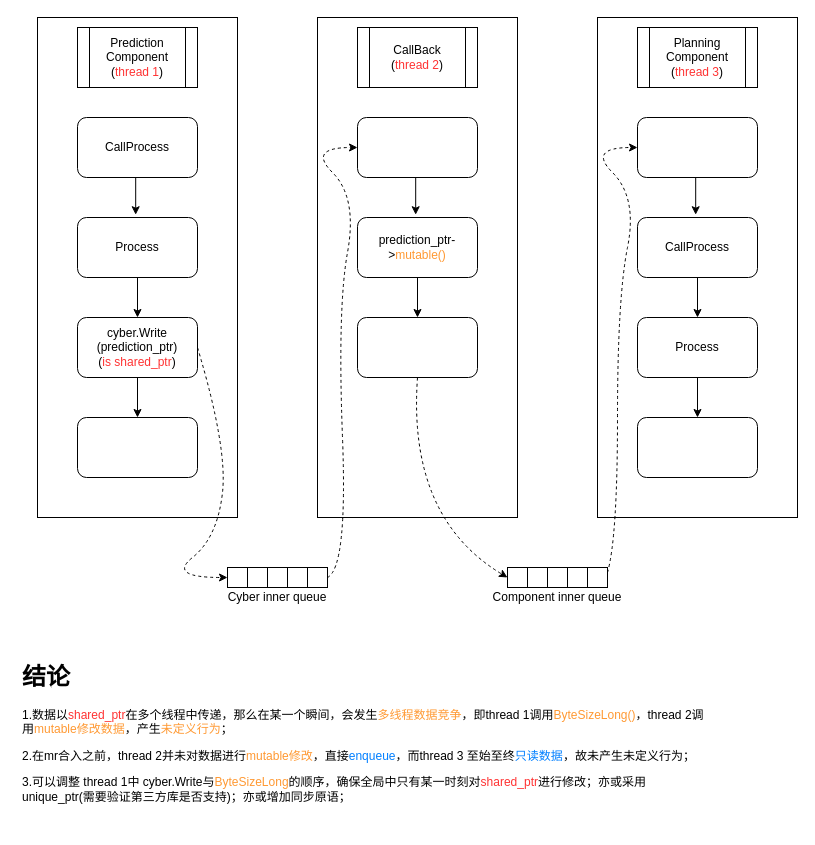
The diagram is 815 pixels wide and 845 high, and some of its shapes have lost their labels. Here are the shapes that lost their labels. From the top down, the centre of each, then its label:
At point 417,147: "CallBackFunc".
At point 697,147: "Dequeue and get prediction_ptr".
At point 417,347: "Enqueue (prediction_ptr) ( thread safe )".
At point 137,447: "prediction_ptr-> ByteSizeLong()".
At point 697,447: "planning_ptr copy some field from prediction_ptr".
